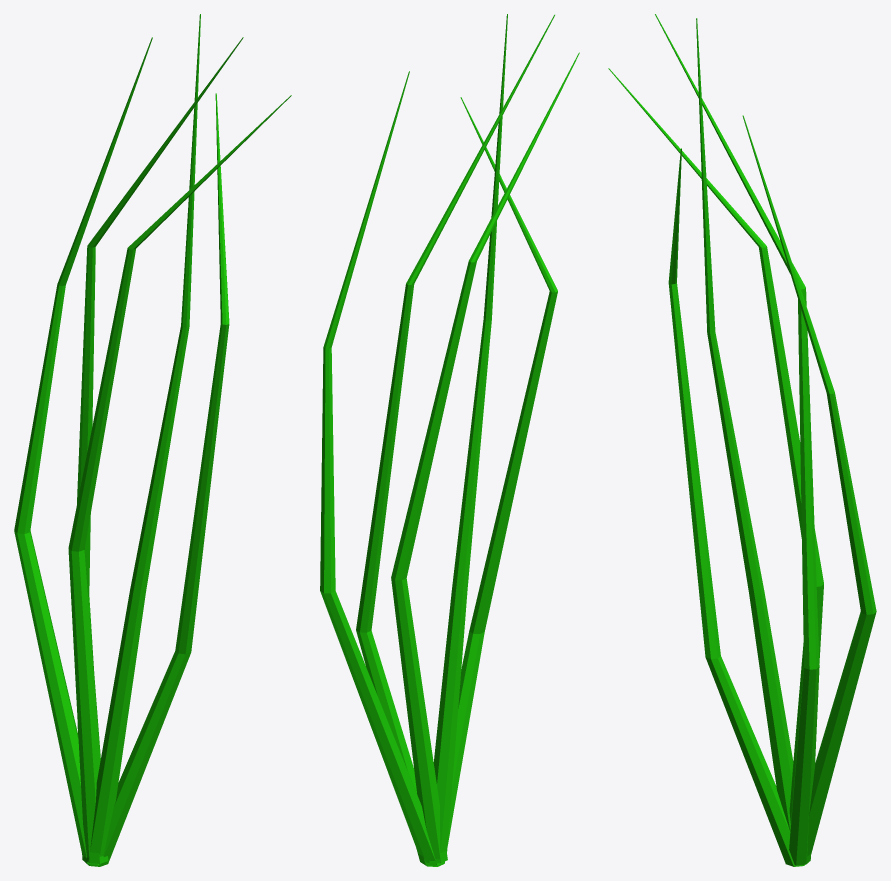
Rendered from unterwassergras.fbx.
3 views of the same model, side by side, from view 1: azimuth 90°, elevation 25°; view 2: azimuth 150°, elevation 25°; view 3: azimuth 270°, elevation 25° (orthographic). The views are drawn at different scales.
Parts seen in each view (by area): view 1: Cylinder; view 2: Cylinder; view 3: Cylinder.
Boxes of the visible parts, x1,y1,x2,y2 form: Cylinder: [14, 14, 291, 866]; Cylinder: [320, 14, 579, 866]; Cylinder: [608, 14, 876, 866].
Size of the model in its own units: 91.72 by 460 by 135.
